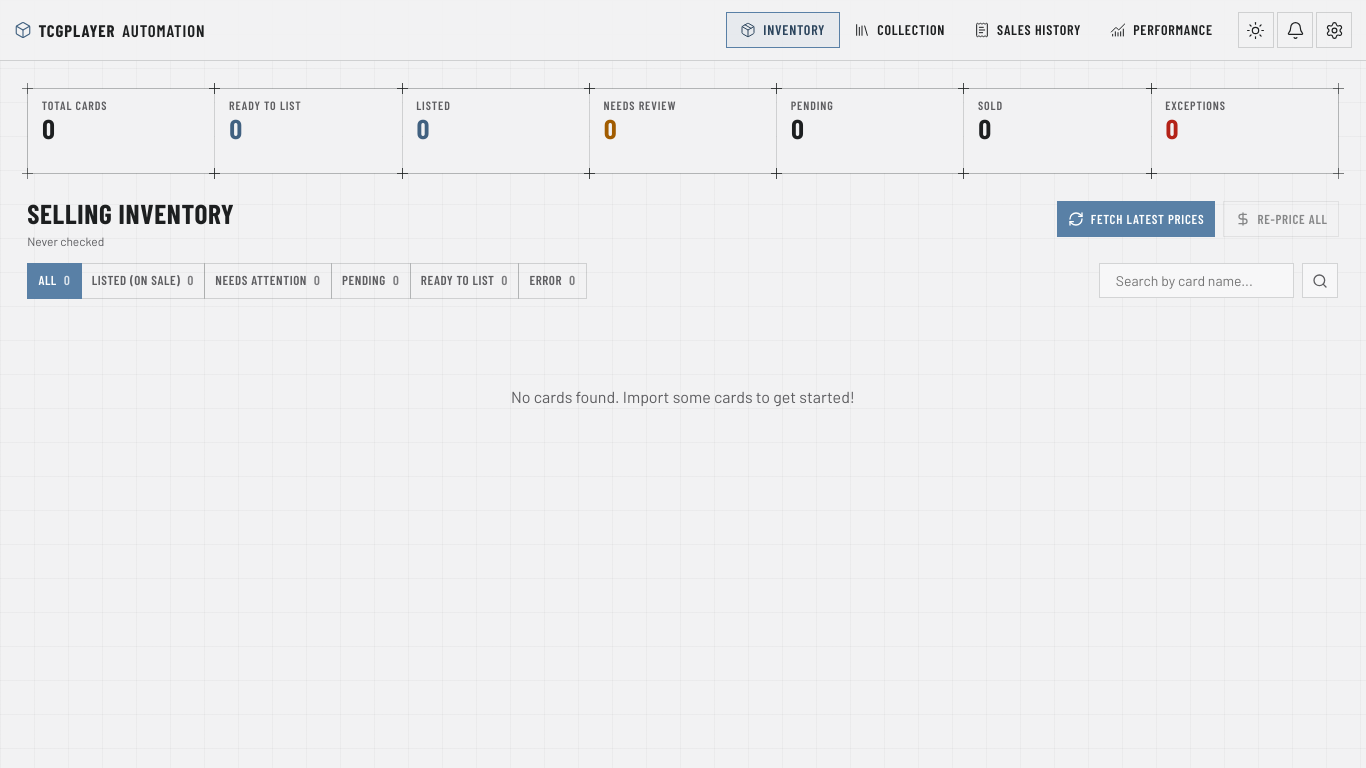
App view tabs › opens scheduler settings from the compact header button and restores focus on close
The width and height of the screenshot is (1366, 768).
Expected: the icon with class "lucide-settings" is shown, x1=1325 y1=20 x2=1344 y2=40
What coordinates should you click on to do the following:
click the button named "Price Check Settings"
I would click on:
 (1334, 30)
Its box is x1=1316 y1=12 x2=1352 y2=48.
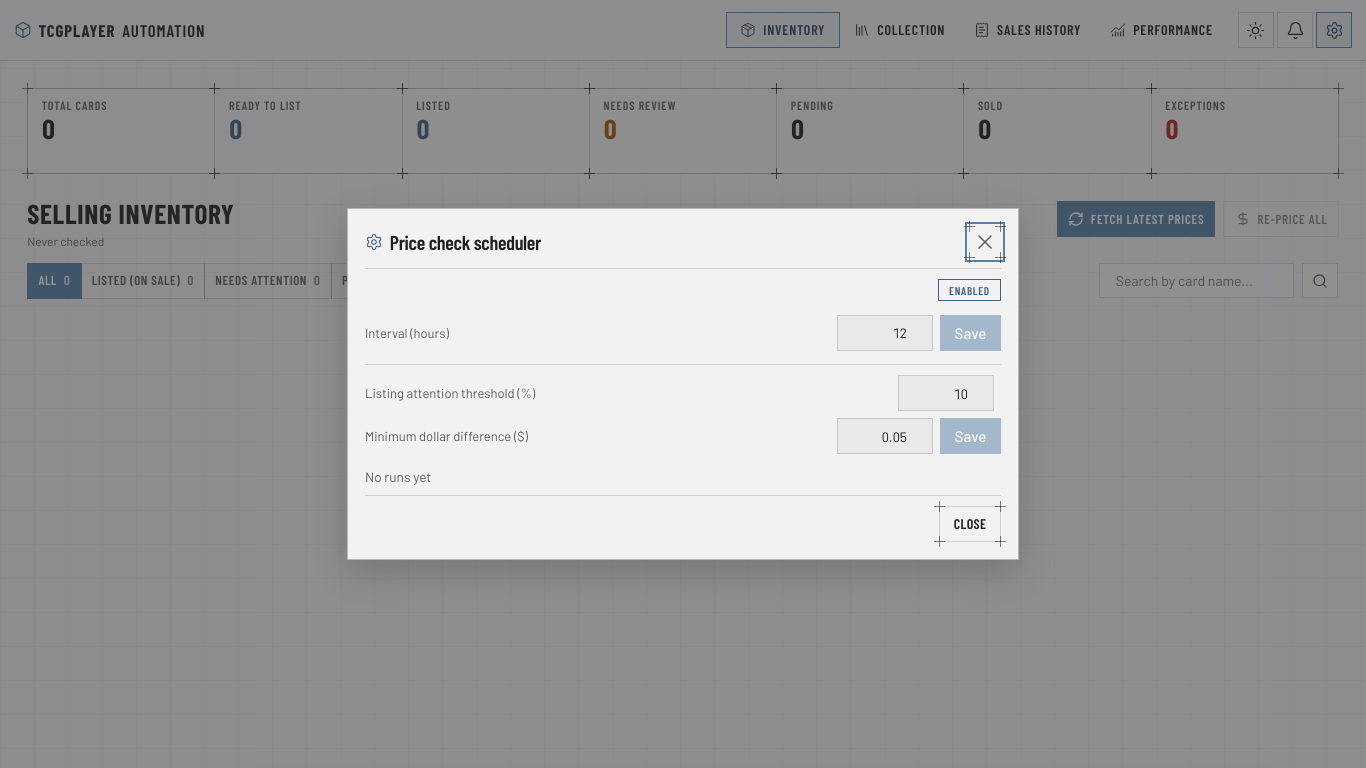
Expected: the button named "Price Check Settings" is expanded, x1=1316 y1=12 x2=1352 y2=48
Expected: the number field labelled "Interval (hours)" holds "12", x1=837 y1=315 x2=933 y2=351
Expected: the text "No runs yet" is shown, x1=365 y1=468 x2=431 y2=485
What coordinates should you click on to do the following:
click the button named "close price check settings"
I would click on:
 (985, 242)
Its box is x1=969 y1=226 x2=1001 y2=258.
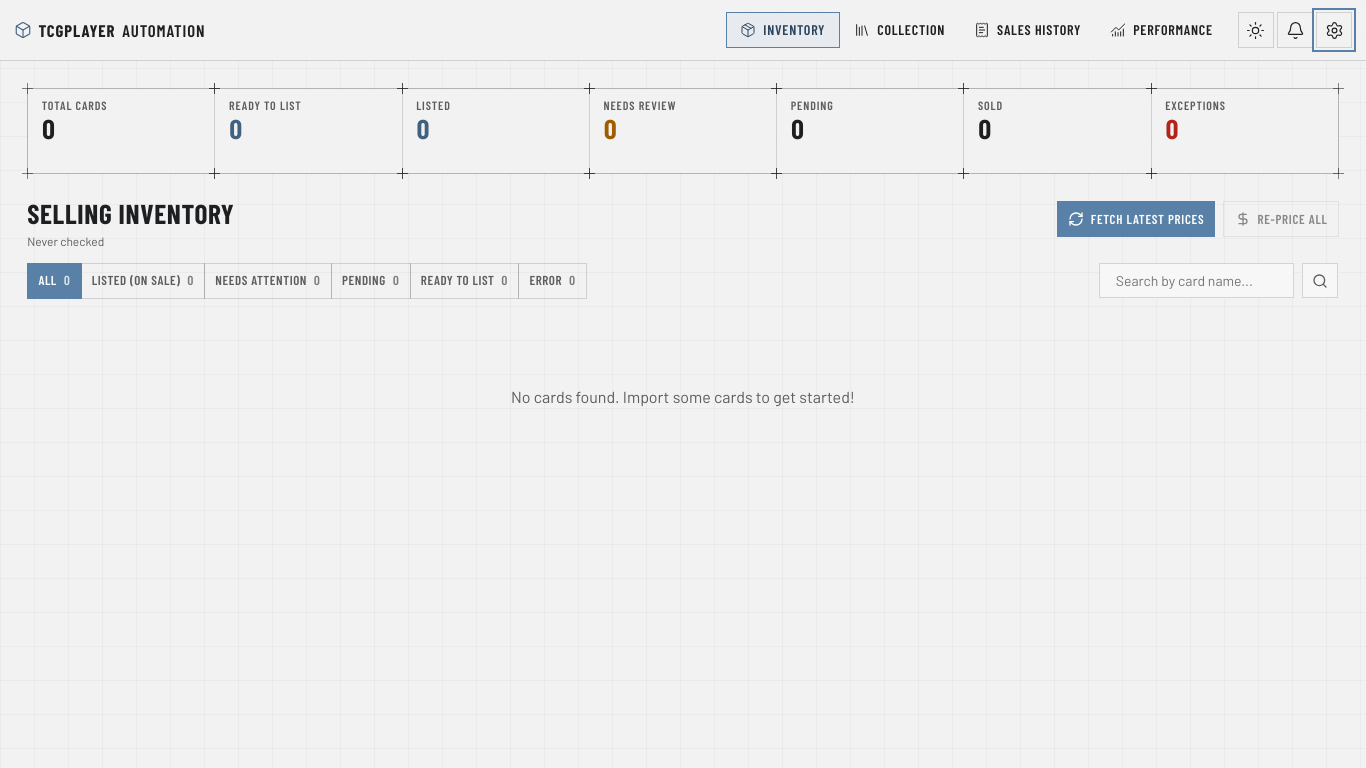
Expected: the dialog is gone
